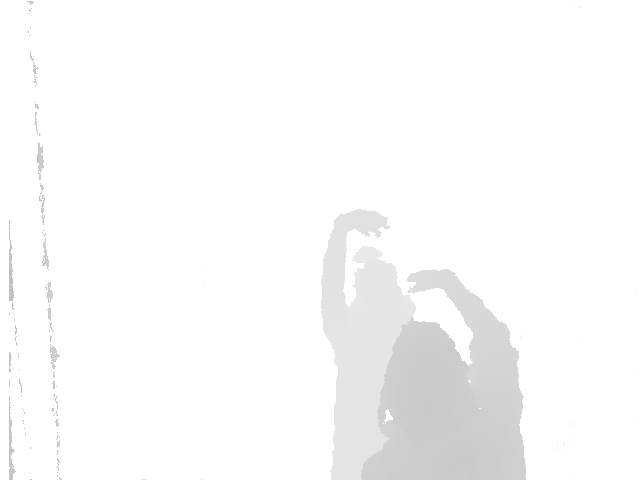hand: (336, 208, 388, 239), (406, 269, 456, 295)
head: (387, 321, 469, 425), (350, 250, 401, 312)
person: (359, 269, 528, 480), (319, 208, 417, 479)
